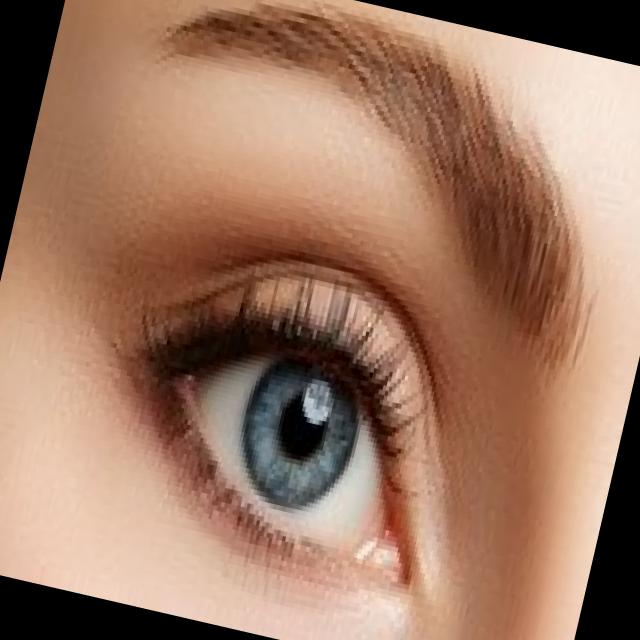Normal: (49, 276, 466, 600)
